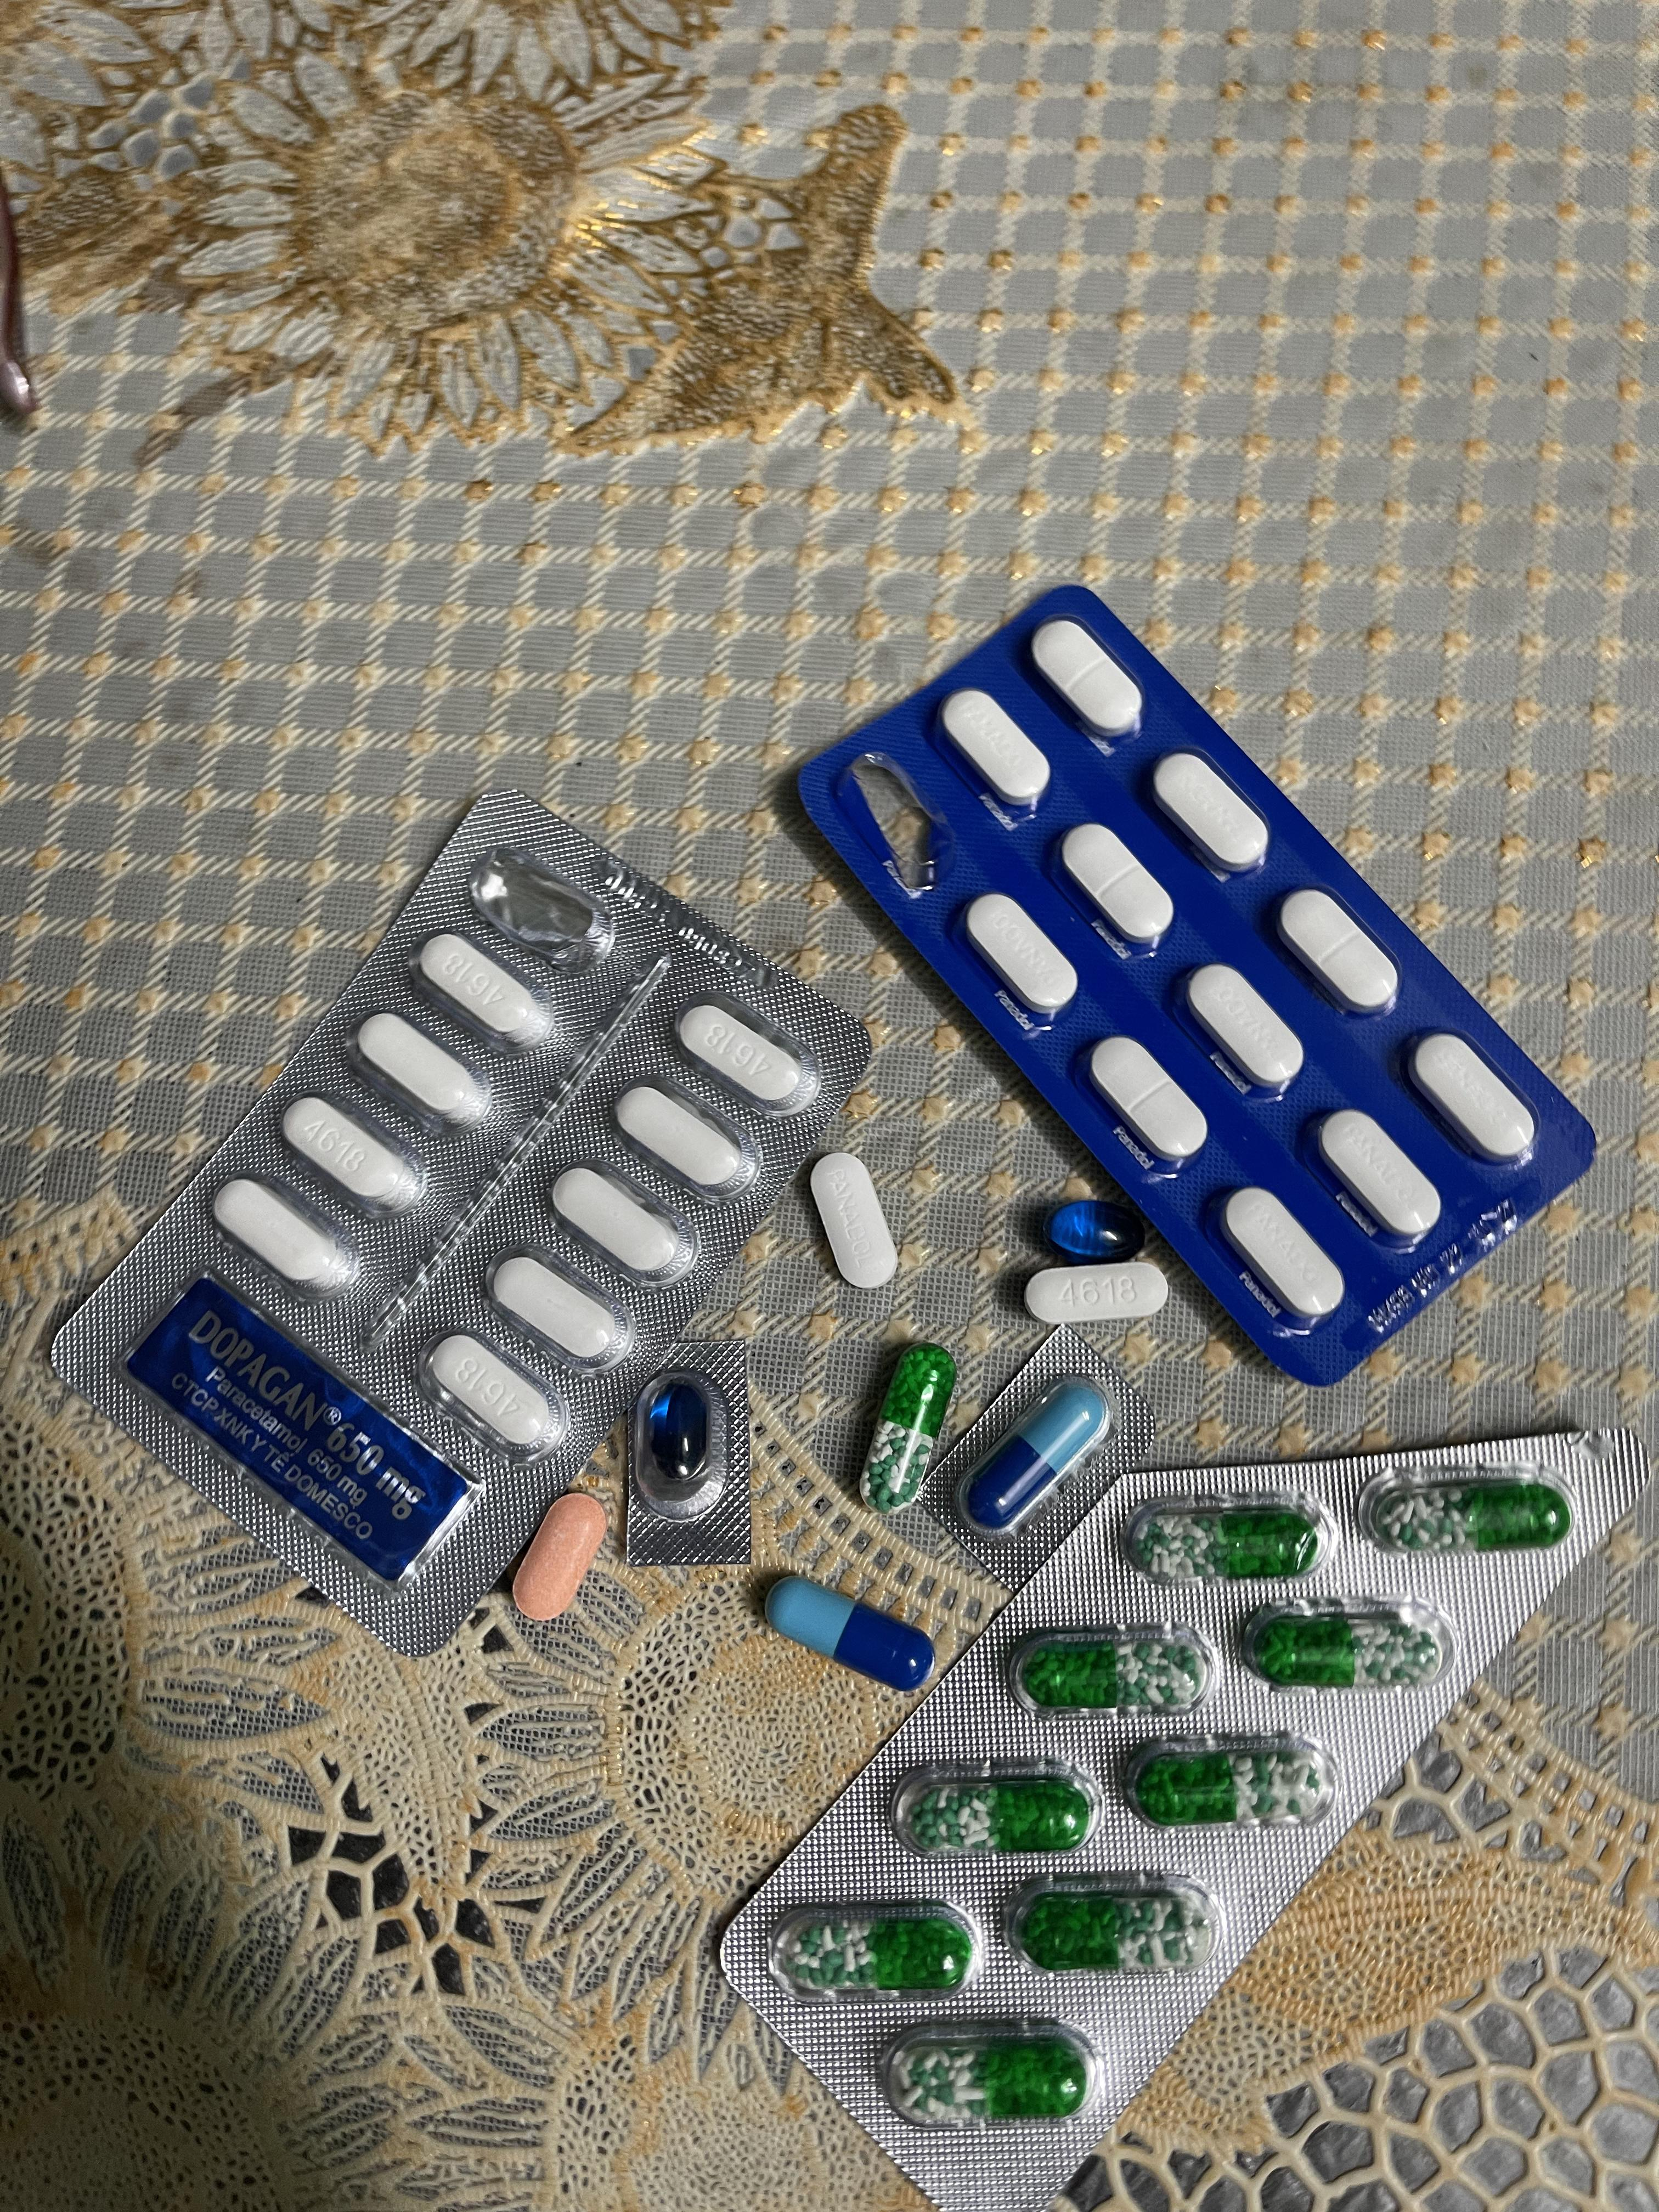Lincomyxin_500mg: (1046, 1198, 1150, 1263), (648, 1379, 713, 1484)
Loratadine_10mg: (514, 1489, 608, 1611)
Paracetamol_350mg: (1408, 1031, 1541, 1165), (1220, 1190, 1347, 1322), (1314, 1111, 1439, 1244), (1276, 888, 1403, 1014), (1183, 963, 1304, 1092), (1150, 752, 1272, 878), (1086, 1036, 1206, 1163), (962, 892, 1075, 1019), (1060, 826, 1173, 949), (941, 688, 1049, 810), (1032, 620, 1143, 737), (807, 1151, 896, 1291)
Paracetamol_500mg: (422, 1334, 565, 1461), (282, 1096, 423, 1216), (211, 1177, 354, 1296), (354, 1012, 493, 1132), (551, 1167, 688, 1284), (490, 1256, 629, 1369), (612, 1085, 748, 1200), (418, 935, 556, 1049), (680, 1001, 812, 1113), (1025, 1261, 1164, 1320)
Paracetamol_650mg: (880, 2022, 1100, 2127), (1012, 1874, 1215, 1973), (769, 1900, 967, 2000), (1361, 1465, 1577, 1554), (894, 1759, 1091, 1855), (1241, 1601, 1448, 1689), (1134, 1735, 1335, 1825), (1006, 1622, 1197, 1709), (1129, 1494, 1326, 1578), (864, 1352, 955, 1507)
pill: (960, 1379, 1112, 1527), (774, 1578, 931, 1691)
